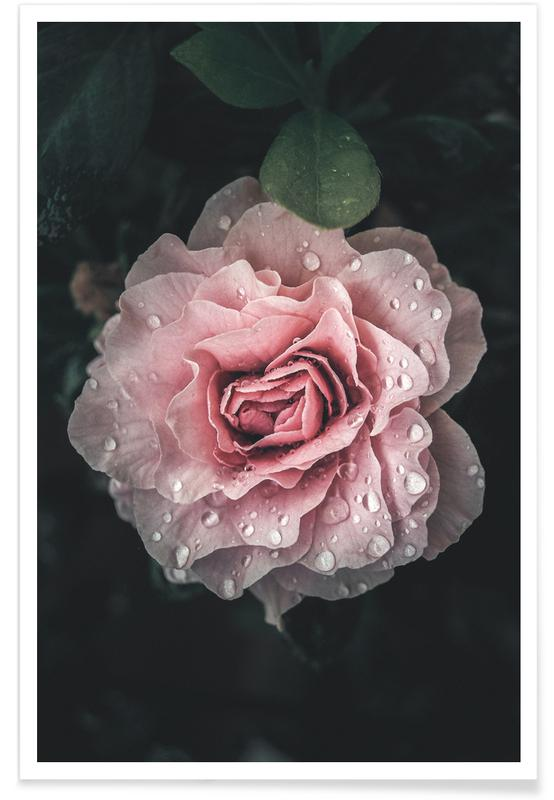rose: (105, 220, 484, 563)
